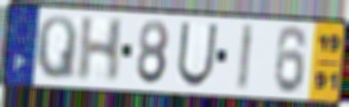6: (273, 23, 308, 97)
8: (134, 18, 171, 87)
H: (75, 15, 127, 84)
I: (235, 22, 256, 93)
Q: (34, 13, 79, 83)
U: (174, 20, 220, 89)
